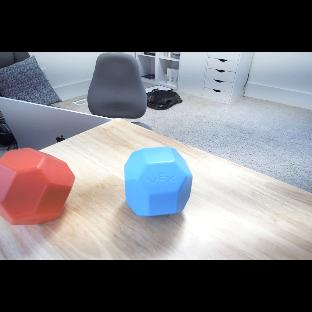V5_BLUE: (124, 146, 193, 217)
V5_RED: (0, 148, 76, 226)
